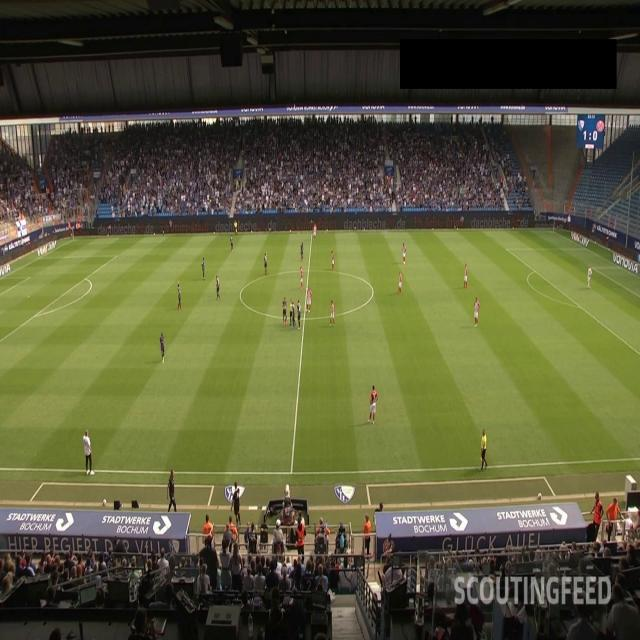ball: (306, 286, 308, 292)
player: (366, 384, 379, 425), (473, 296, 480, 331), (462, 262, 470, 292), (160, 331, 167, 364), (305, 286, 313, 314), (176, 280, 182, 314), (296, 298, 302, 331), (329, 299, 336, 327), (282, 296, 288, 328), (215, 274, 221, 302), (263, 250, 269, 277), (586, 264, 592, 291), (402, 242, 408, 266), (299, 241, 305, 261), (291, 300, 295, 330), (330, 250, 336, 270), (398, 270, 403, 294), (299, 266, 304, 289), (313, 222, 318, 242), (201, 256, 205, 280), (230, 235, 234, 252)
